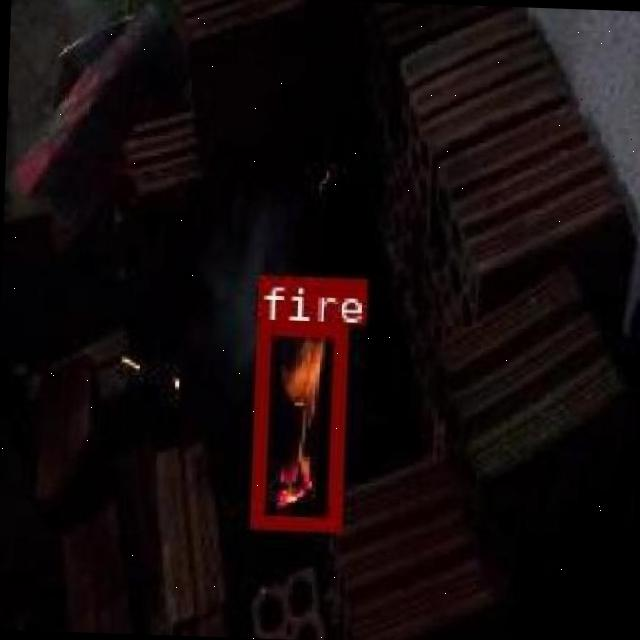fire: (249, 321, 345, 530)
